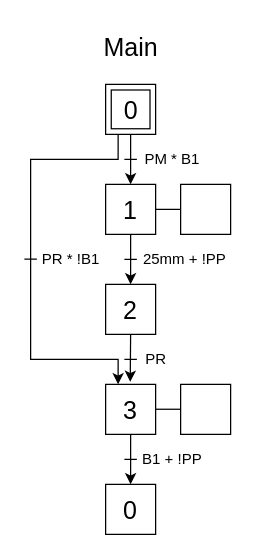
This 259x556 diagram has some shape labels left out. The box of each missing label's shape, as (x1, y1, x2, y2) in pixels:
V1: (179, 183, 231, 234)
V2: (179, 383, 231, 434)
